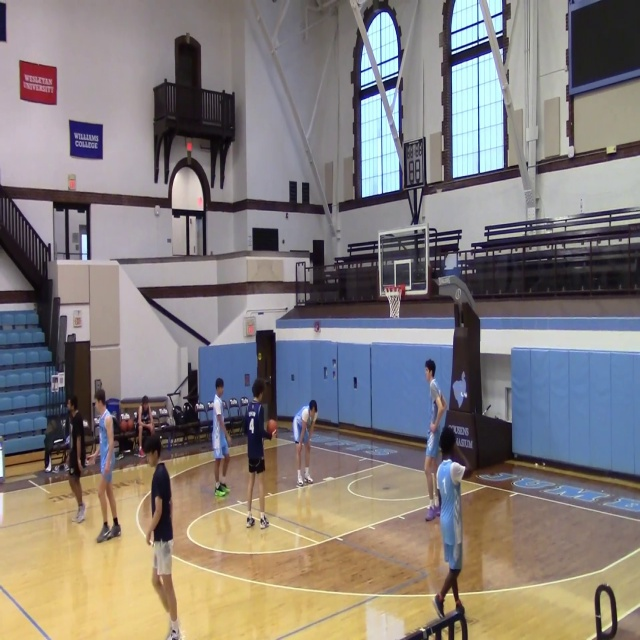Basketball: (266, 419, 277, 435)
